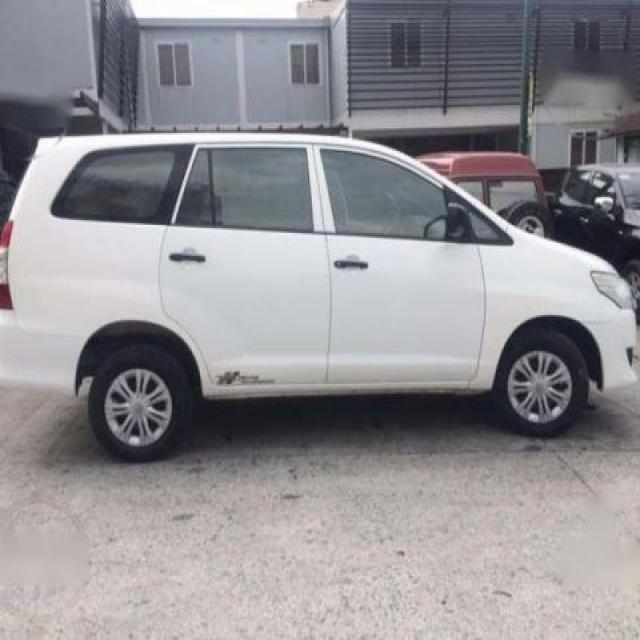light_vehicle: (0, 131, 639, 463)
